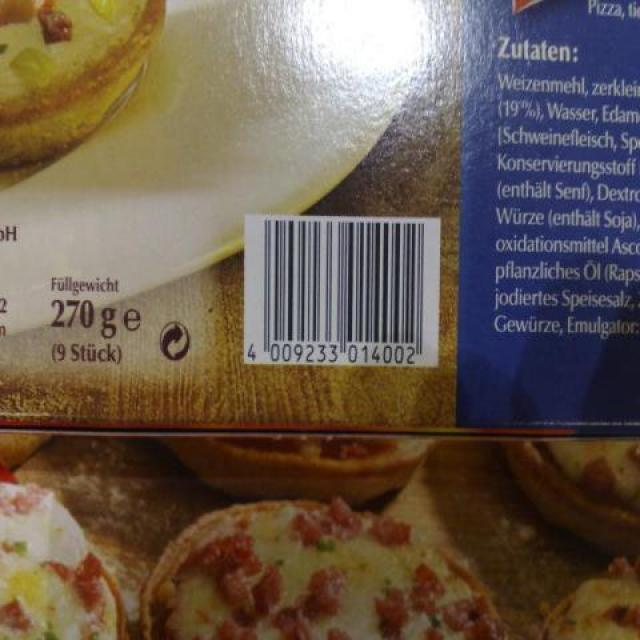Barcode: (244, 215, 439, 366)
